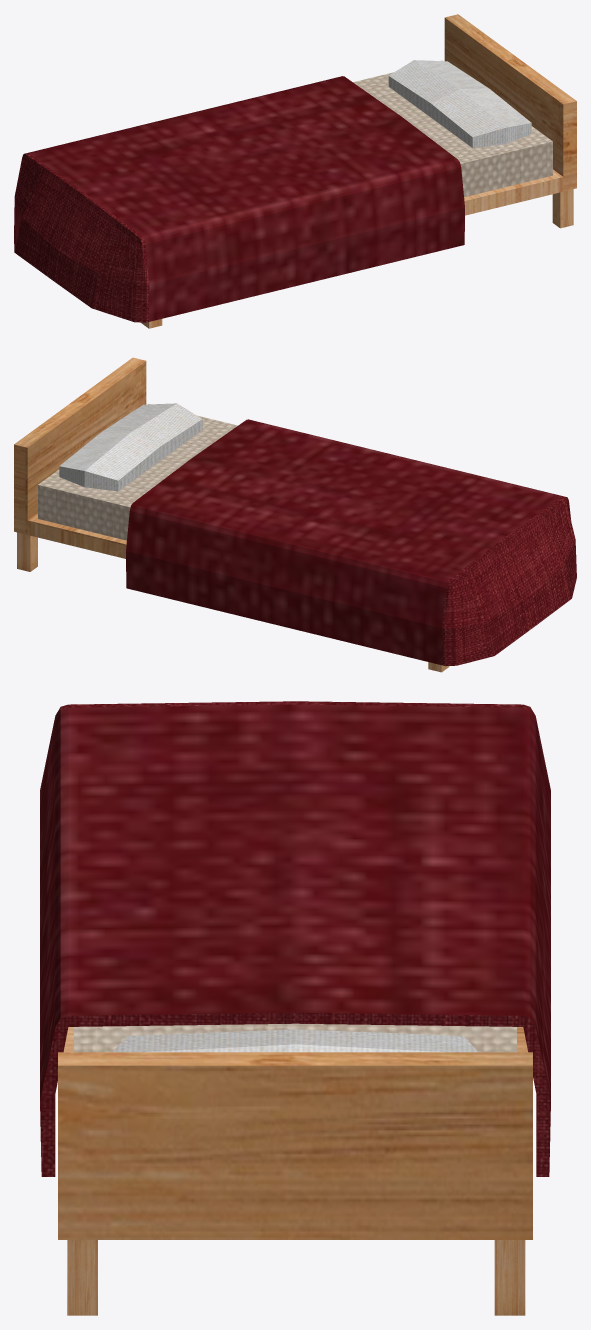
The model's file is bed.fbx.
3 views of the same model, one above another, from view 1: azimuth 30°, elevation 25°; view 2: azimuth 150°, elevation 25°; view 3: azimuth 270°, elevation 25° (orthographic). The views are drawn at different scales.
Visible parts, largest first — view 1: Cube.002; view 2: Cube.002; view 3: Cube.002.
Part boxes in pixels (x1,y1,x2,y2): Cube.002: [14, 14, 576, 328]; Cube.002: [14, 357, 576, 672]; Cube.002: [40, 701, 550, 1315].
Bounding box in the file's own units: 696 × 180 × 333.
